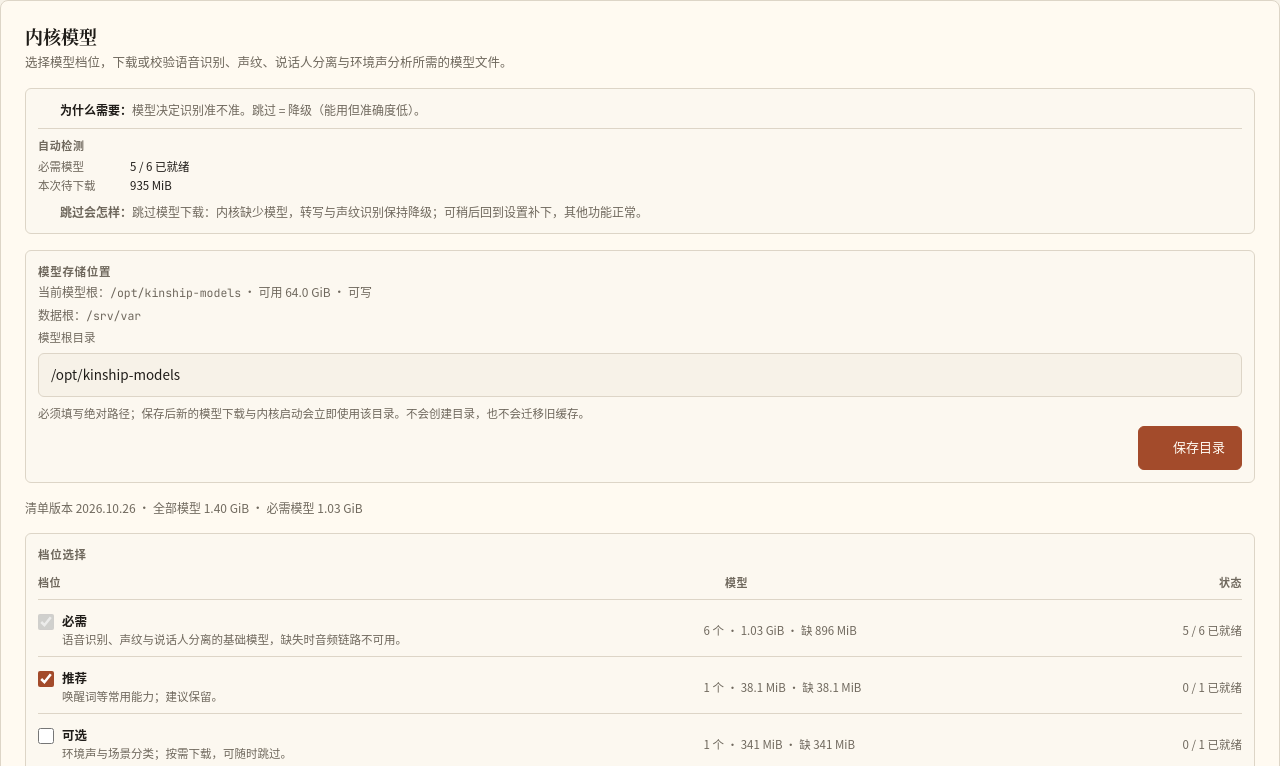
Test case: KernelModelsStep › shows the 403 error returned by the storage save
Type "/data/models" into the field labelled "模型根目录" at (640,375), box [38,353,1242,397]
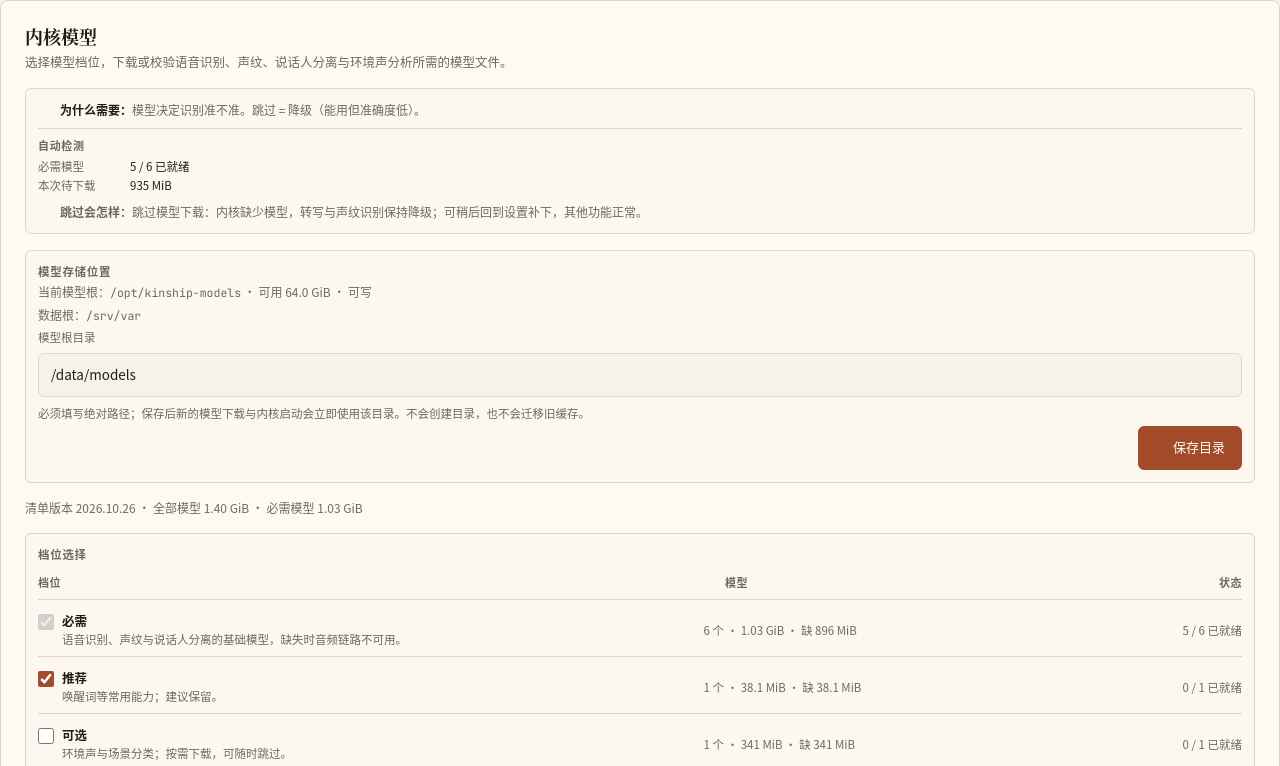
Click the button "保存目录" at (1190,448), box [1138,426,1242,470]
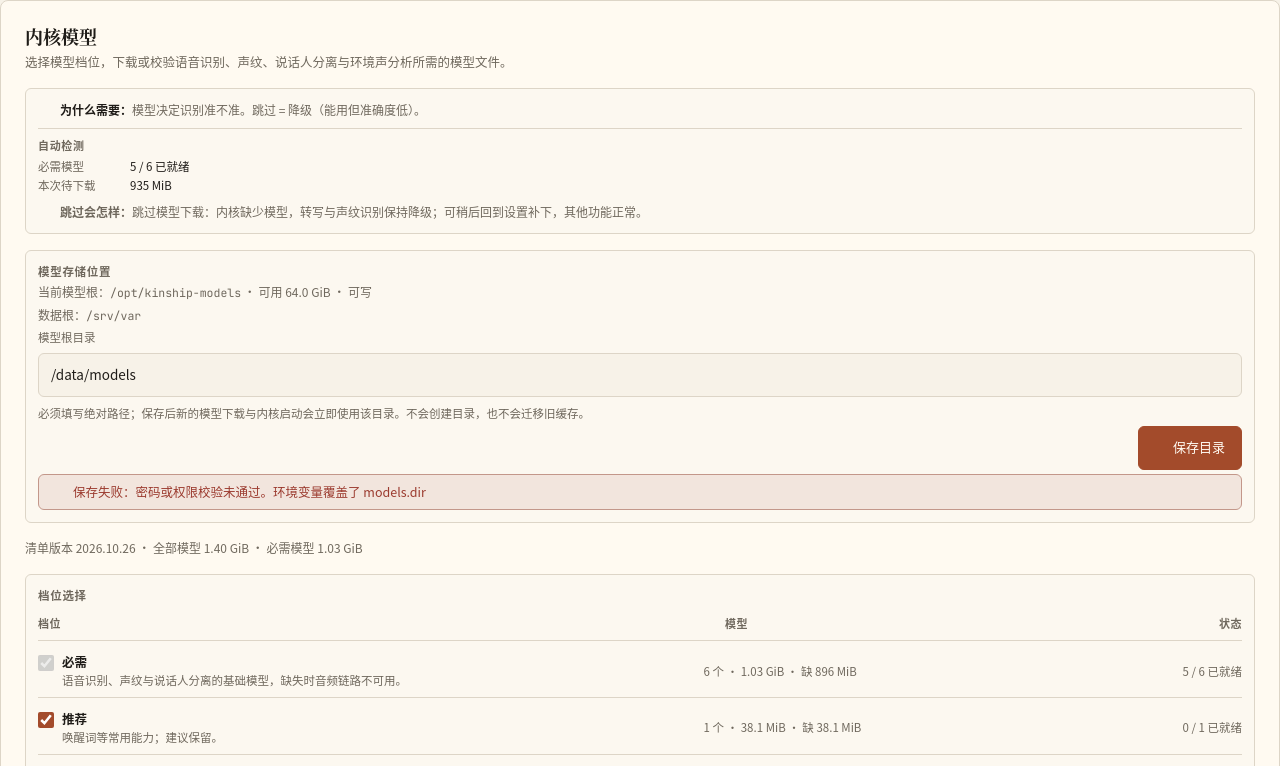
Expected: the message "保存失败：密码或权限校验未通过。环境变量覆盖了 models.dir" is shown, [38,474,1242,510]
